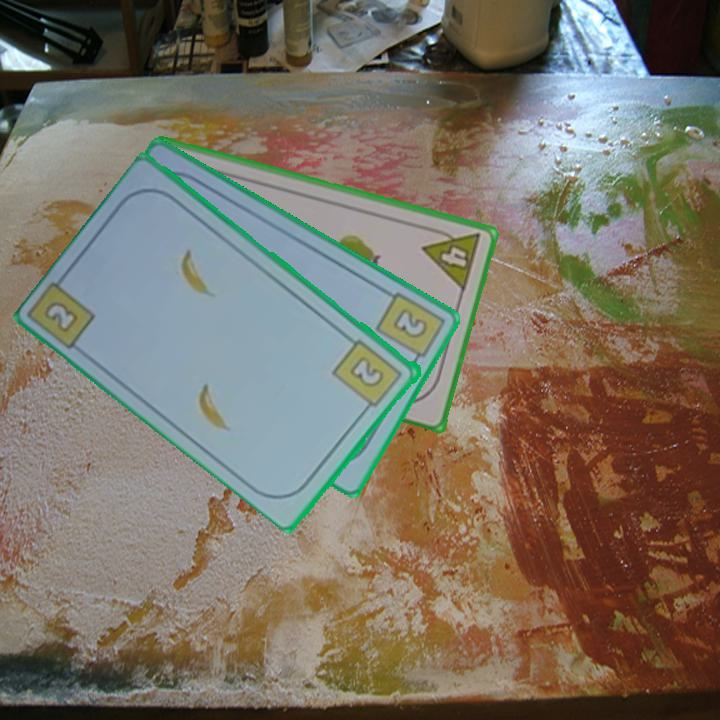2b: (329, 335, 407, 416), (372, 287, 447, 370), (41, 297, 82, 336)
4p: (419, 222, 484, 294)
